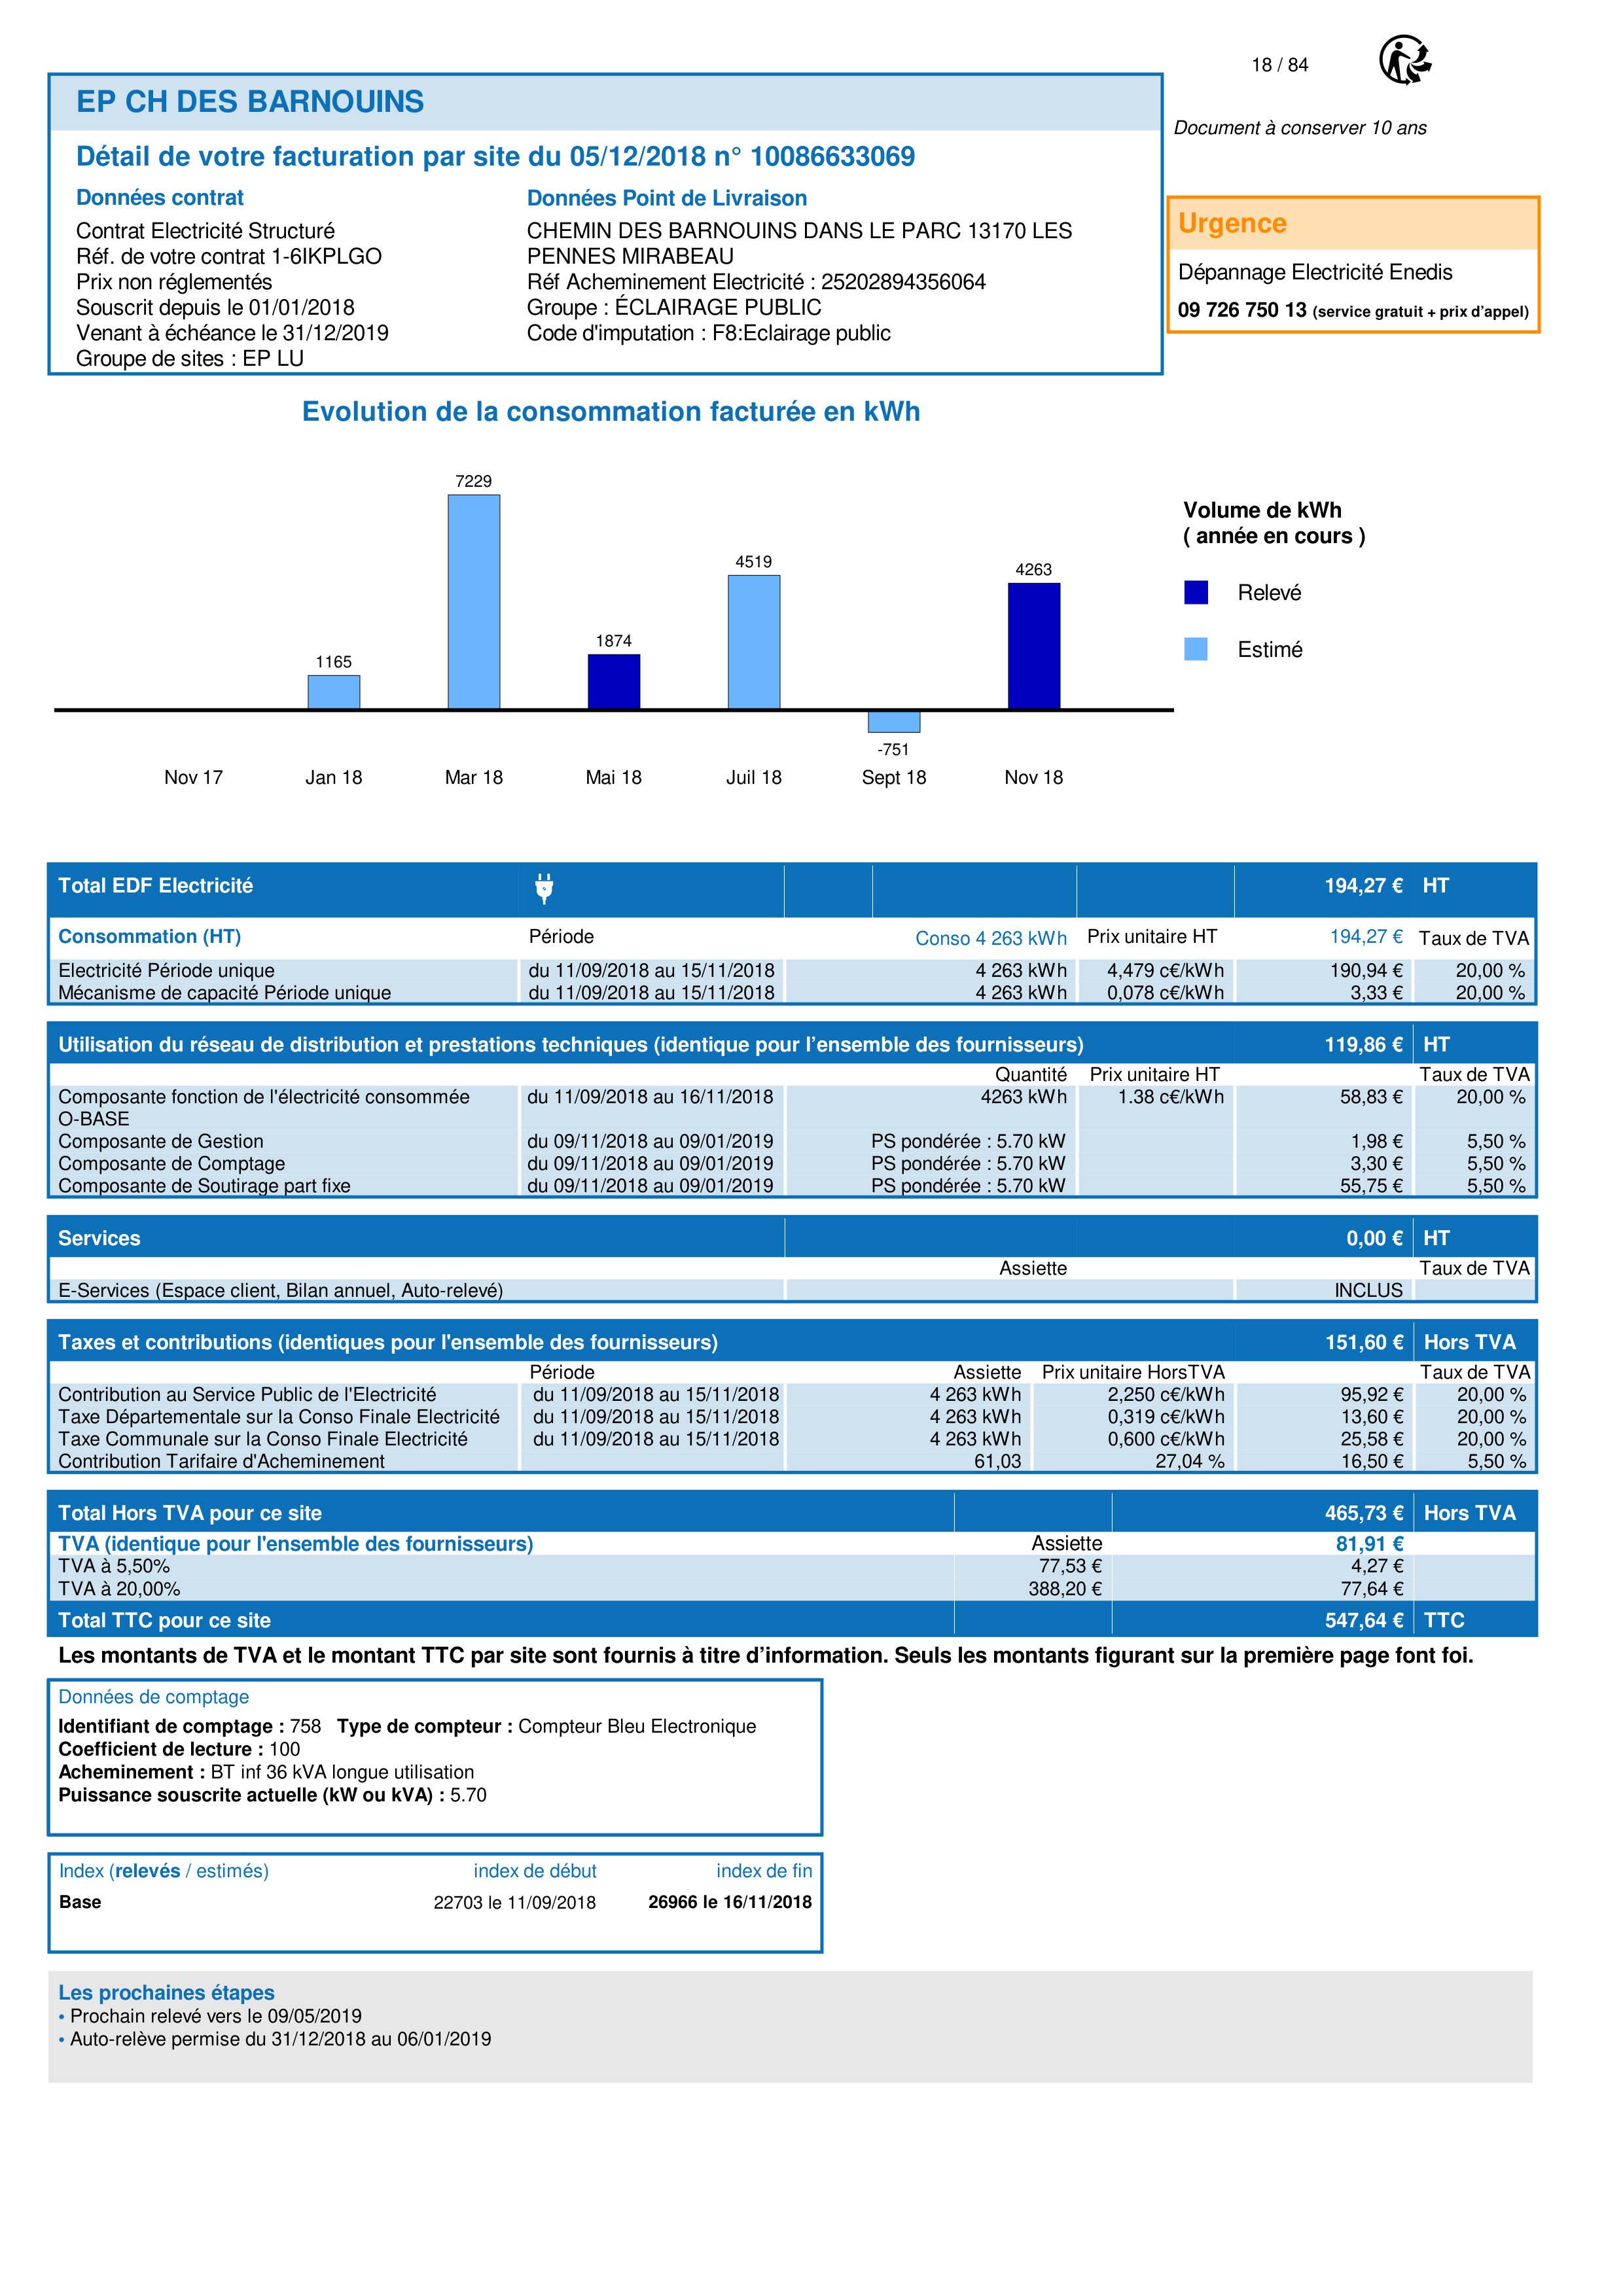area: (47, 1854, 824, 1953)
type_indicator: (48, 1855, 285, 1886)
